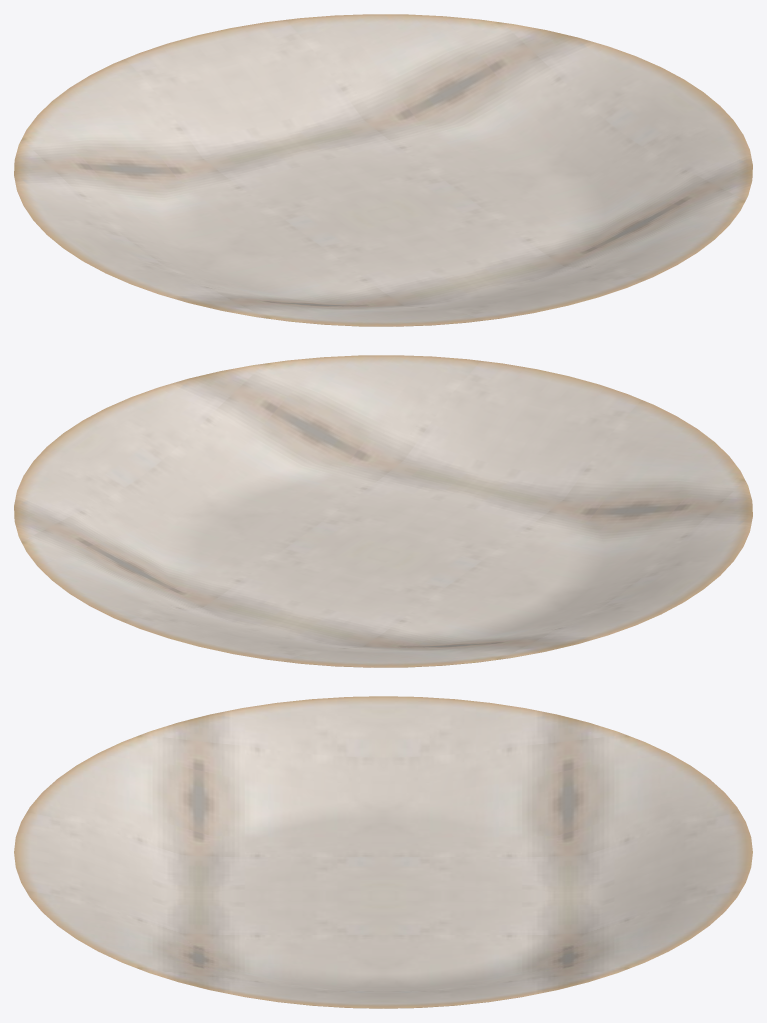
The model's file is CER-01.glb.
3 renders of one model, top to bottom at view 1: azimuth 30°, elevation 25°; view 2: azimuth 150°, elevation 25°; view 3: azimuth 270°, elevation 25°, orthographic.
Size of the model in its own units: 0.217 by 0.017 by 0.217.
Materials: 2 (2 with a texture image).
